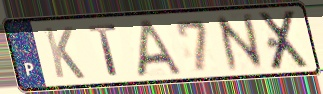7: (173, 17, 211, 73)
A: (136, 18, 184, 79)
K: (41, 25, 88, 81)
N: (212, 10, 269, 75)
T: (86, 23, 121, 79)
X: (257, 8, 313, 73)
